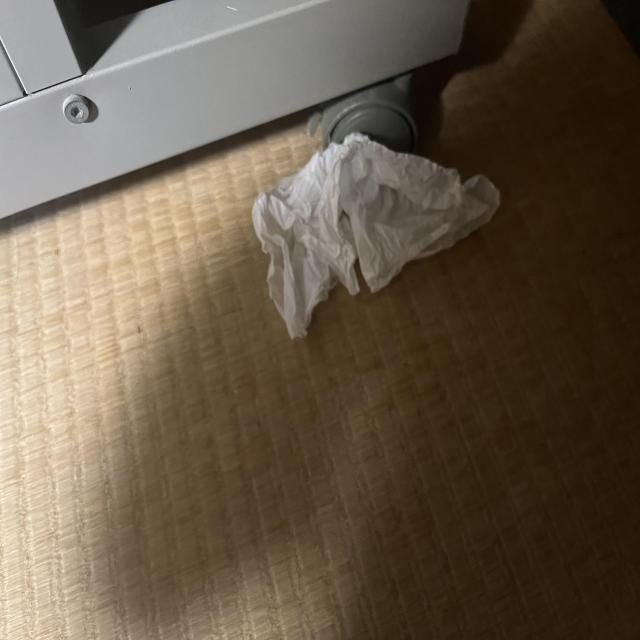Paper: (241, 145, 512, 341)
